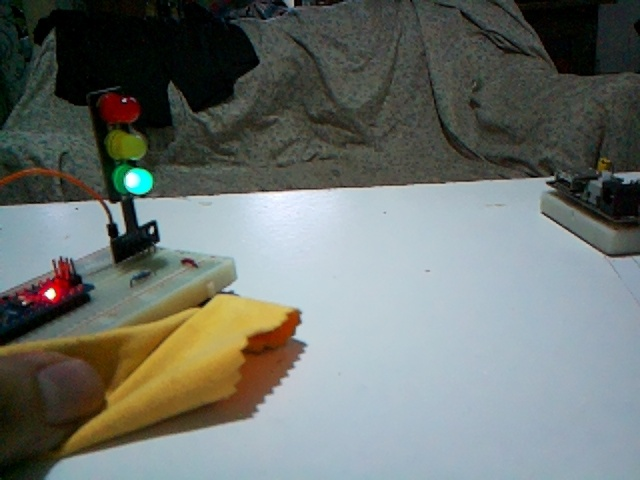traffic_light_green: (86, 86, 153, 232)
